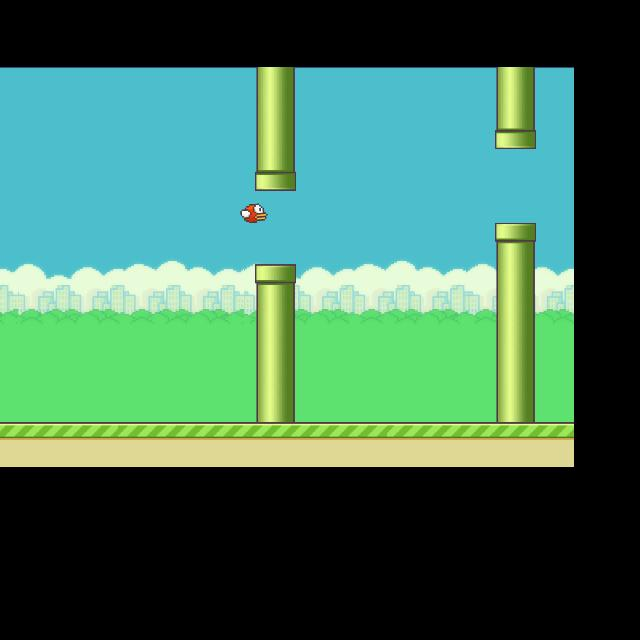bird: (241, 205, 267, 224)
pipedown: (495, 222, 536, 393), (254, 264, 296, 406)
pipeup: (255, 82, 295, 190), (495, 72, 536, 149)
